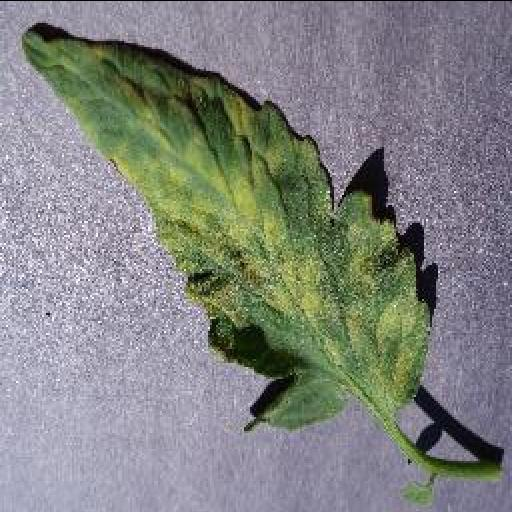disease_tomato: (21, 32, 435, 428)
